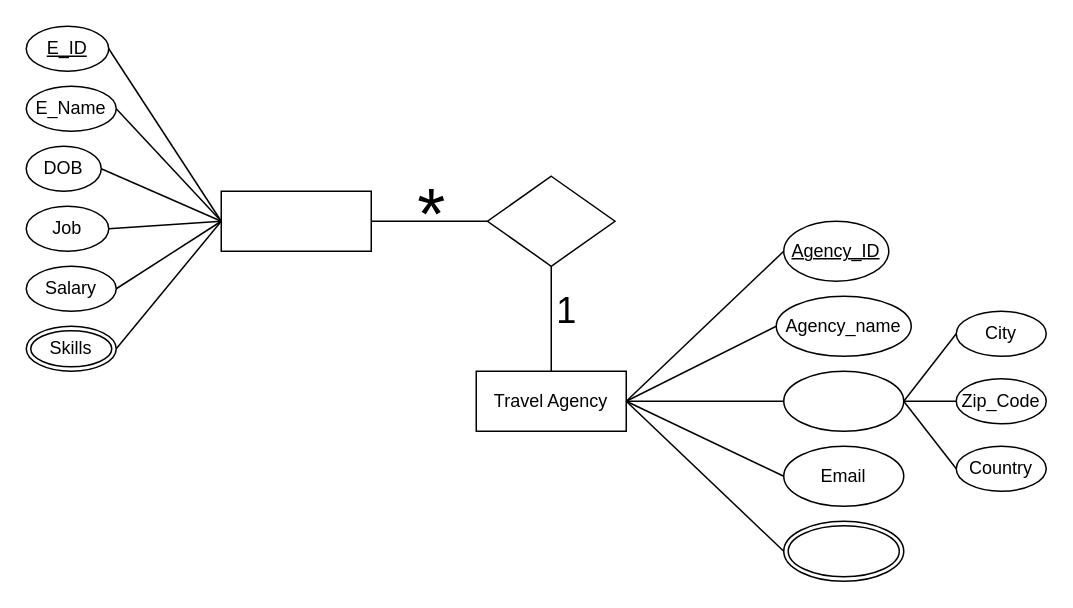
This 1073x608 diagram has some shape labels left out. The box of each missing label's shape, as (x1, y1, x2, y2) in pixels:
Address: (782, 370, 904, 431)
Employee: (220, 190, 371, 251)
Phone_No: (782, 520, 904, 581)
Works For: (486, 175, 615, 266)
